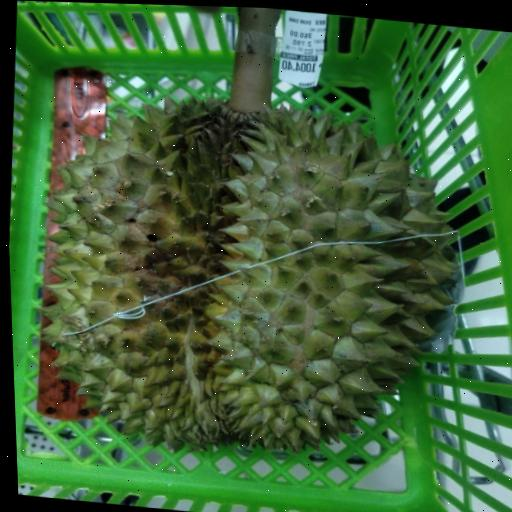rot: (13, 0, 502, 479)
